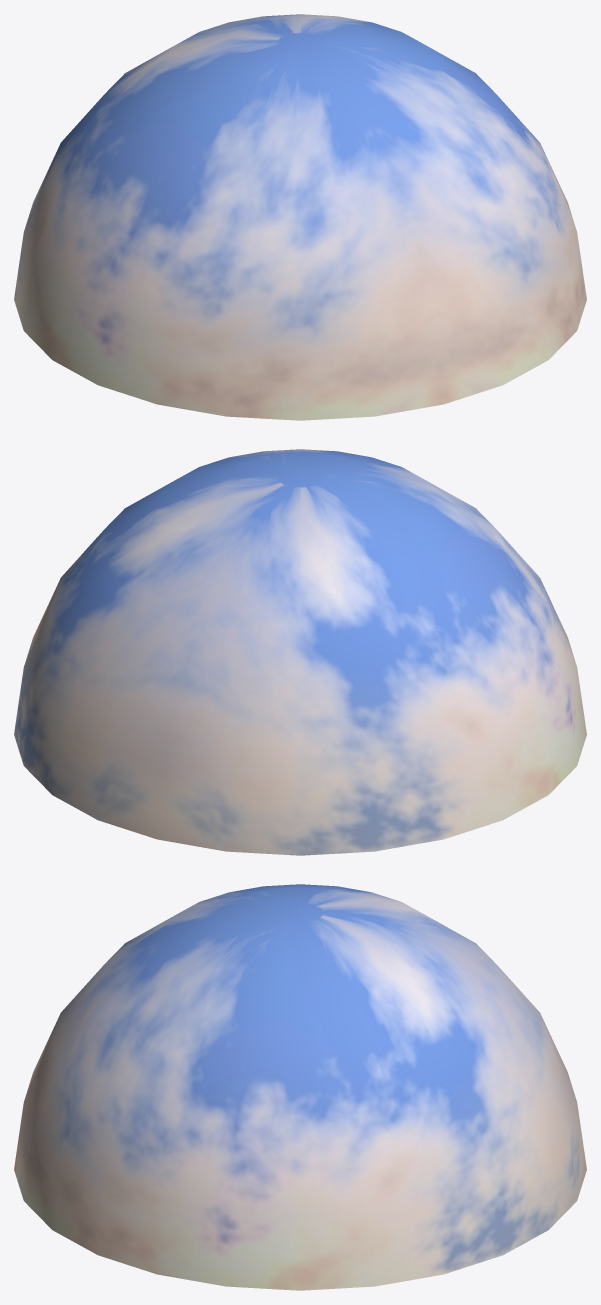
3 renders of one model, top to bottom at view 1: azimuth 30°, elevation 25°; view 2: azimuth 150°, elevation 25°; view 3: azimuth 270°, elevation 25°, orthographic.
Visible parts, largest first — view 1: Skybox; view 2: Skybox; view 3: Skybox.
Boxes of the visible parts, box(x1,y1,x2,y2) form: Skybox: box(14, 14, 586, 420); Skybox: box(14, 449, 586, 855); Skybox: box(14, 884, 586, 1290).
Bounding box in the file's own units: 1976 × 1050 × 1976.
